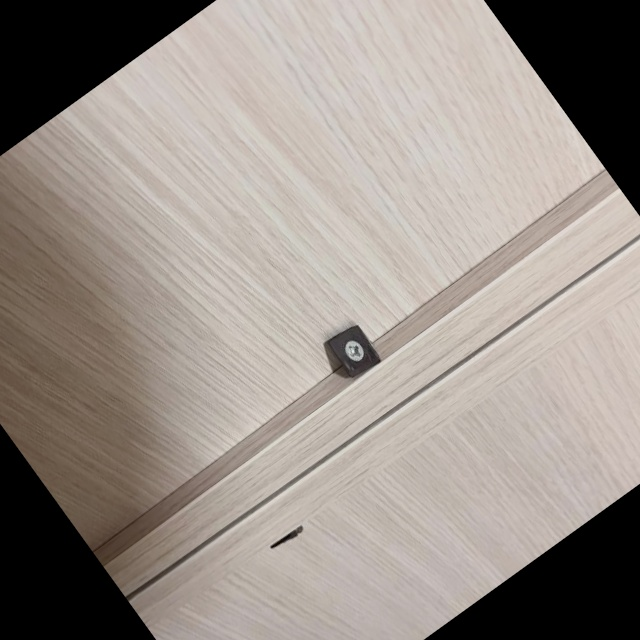pozidriv: (341, 337, 368, 366)
